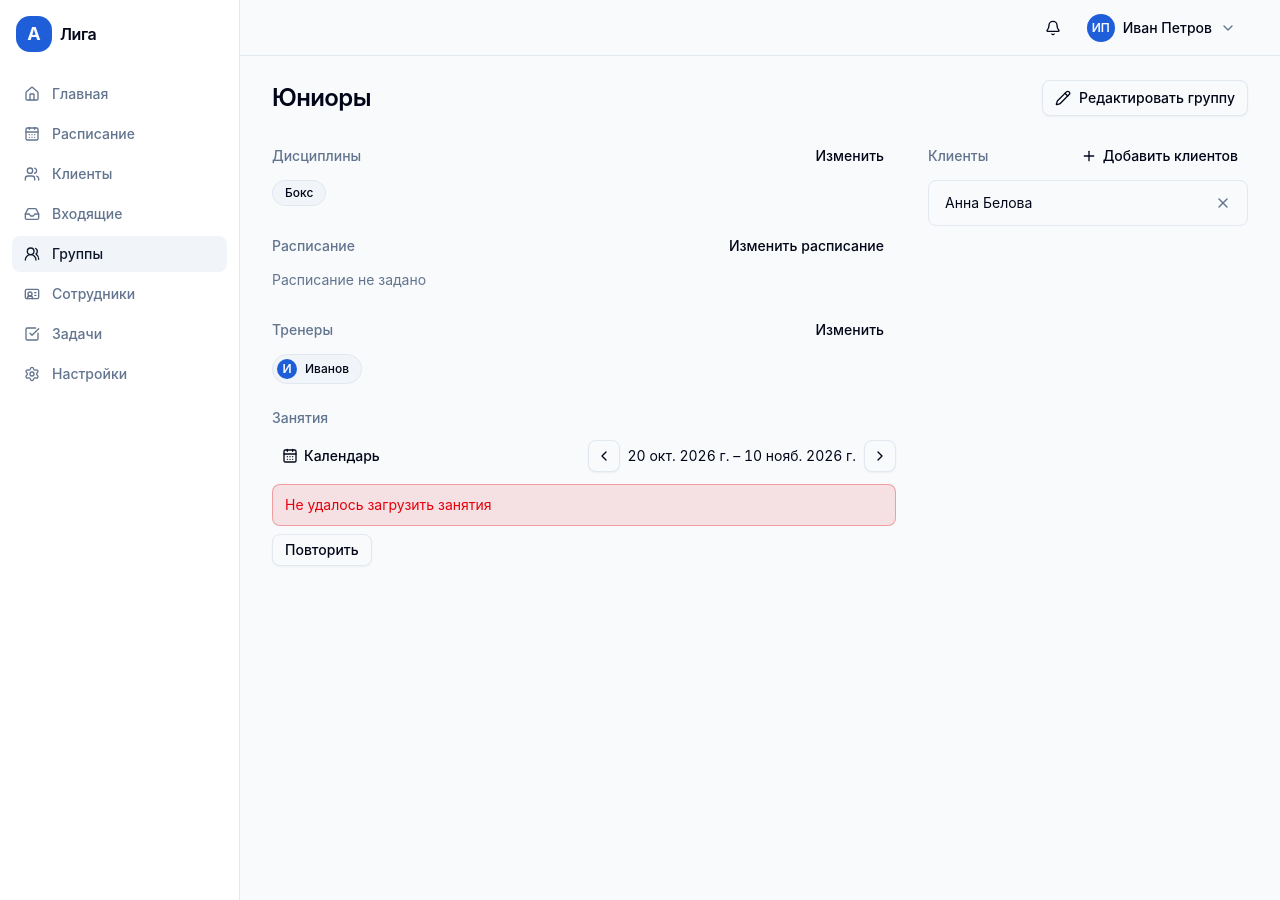
Scenario: дисциплины и тренеры в карточке › заменяет тренеров отмеченными в панели, включая неактивных в списке
This screenshot has width=1280, height=900.
Expected: the list item "Иванов" is shown, [305,361,349,376]
Click the button "Изменить" in the row of "Тренеры" at (850, 330), box [804,314,896,346]
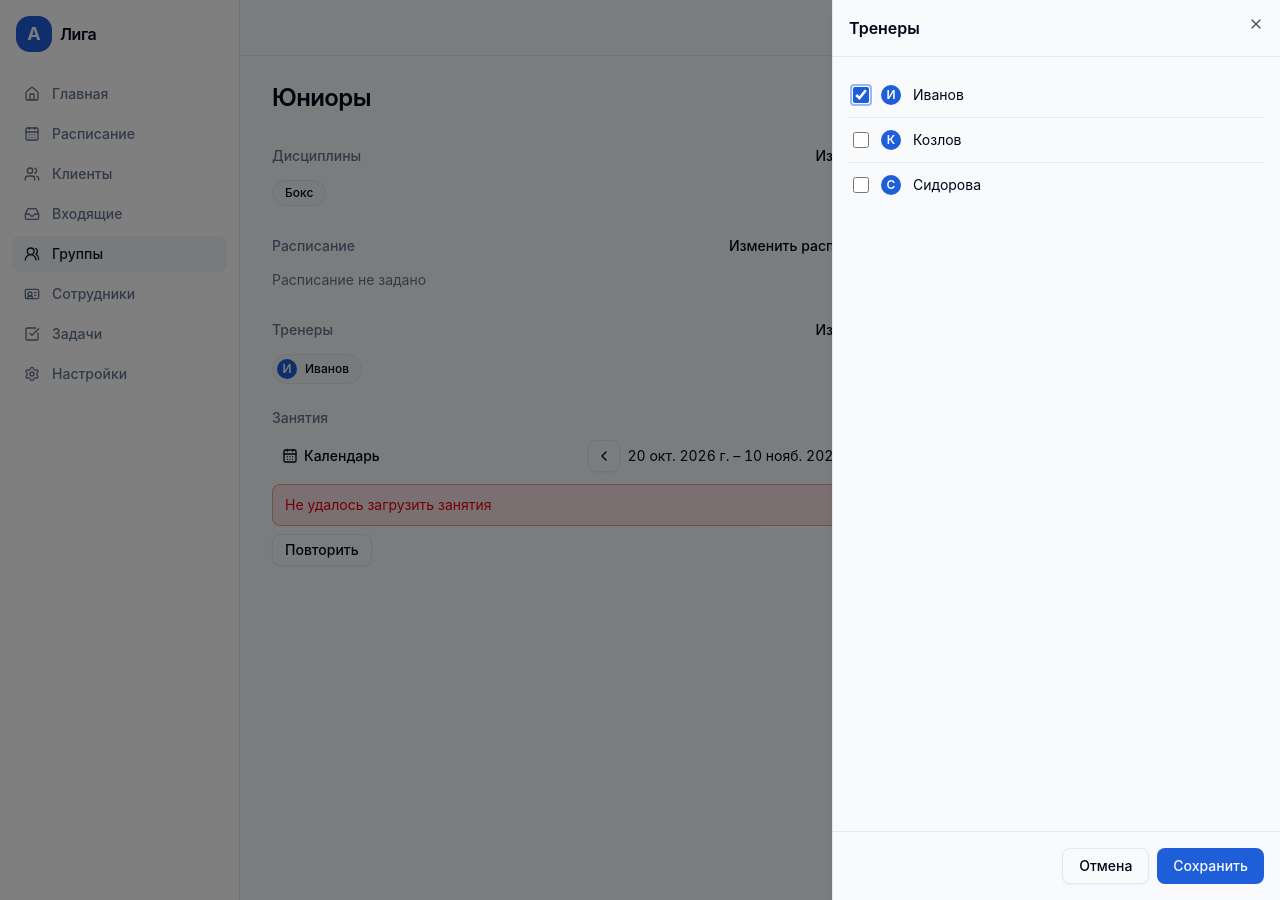
Expected: the checkbox labelled "Иванов" is checked
Expected: the checkbox labelled "Козлов" is not checked, [853,132,869,148]
Click the checkbox labelled "Иванов" at (861, 95), box [853,87,869,103]
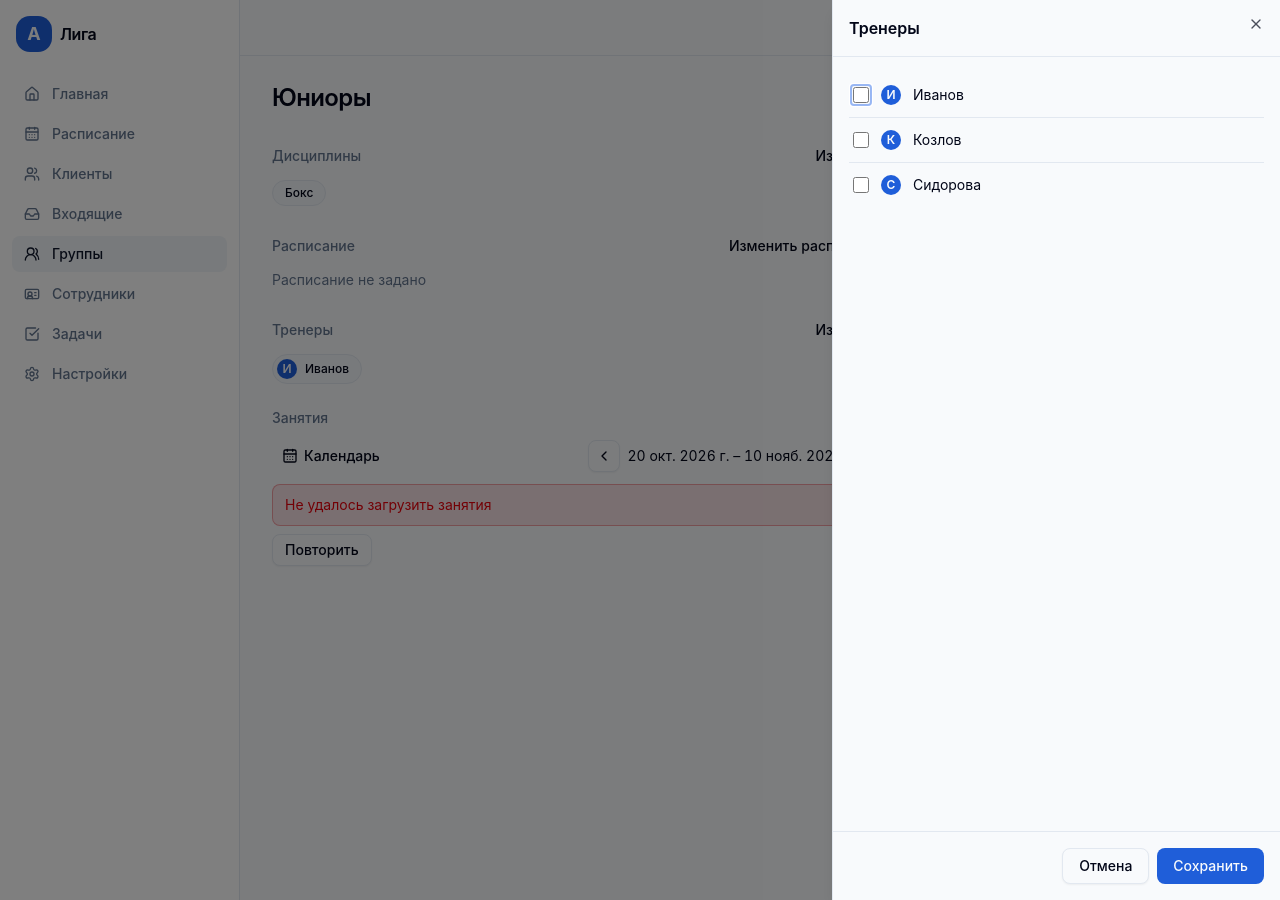
Click the checkbox labelled "Сидорова" at (861, 185), box [853,177,869,193]
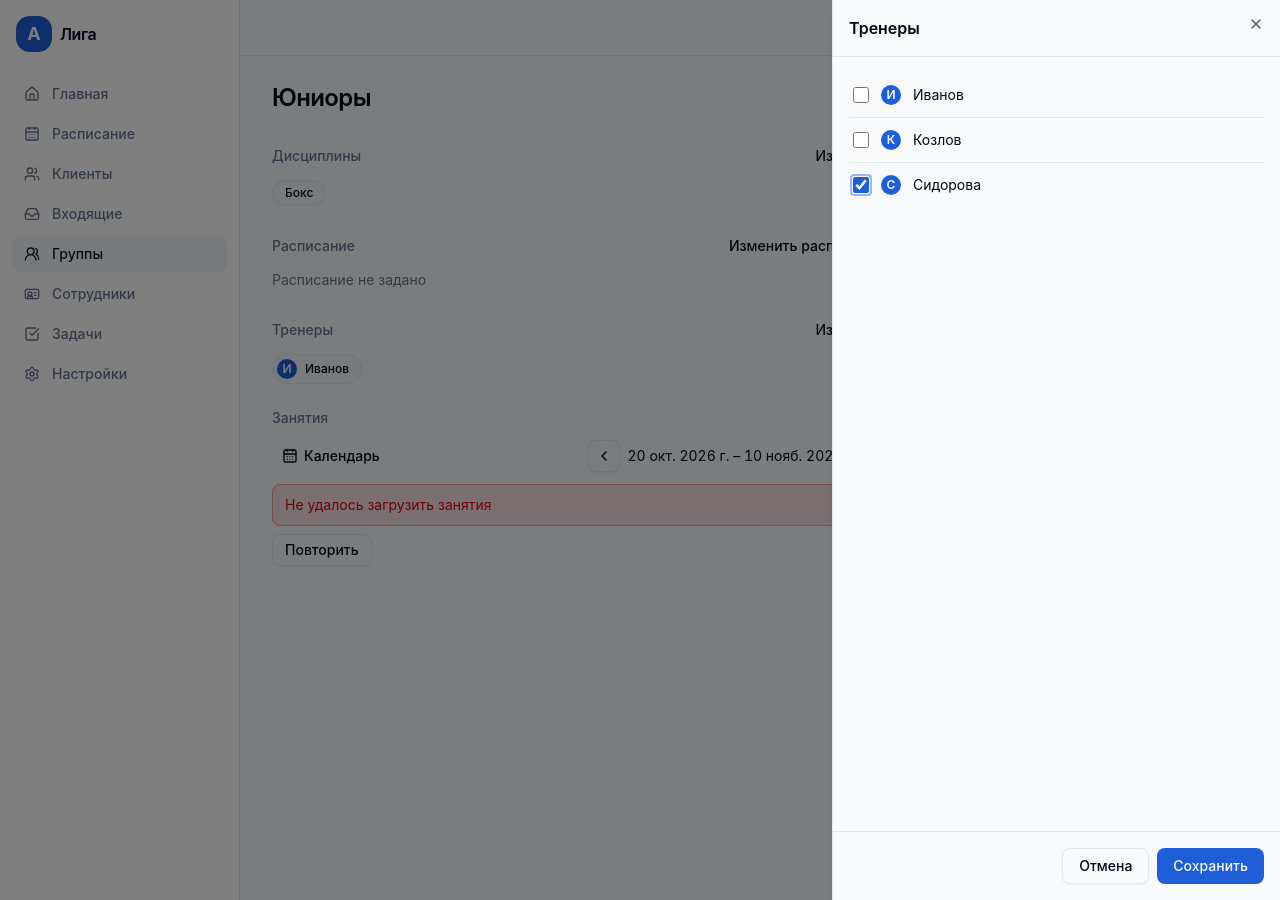
Click the button "Сохранить" at (1211, 866), box [1157,848,1264,884]
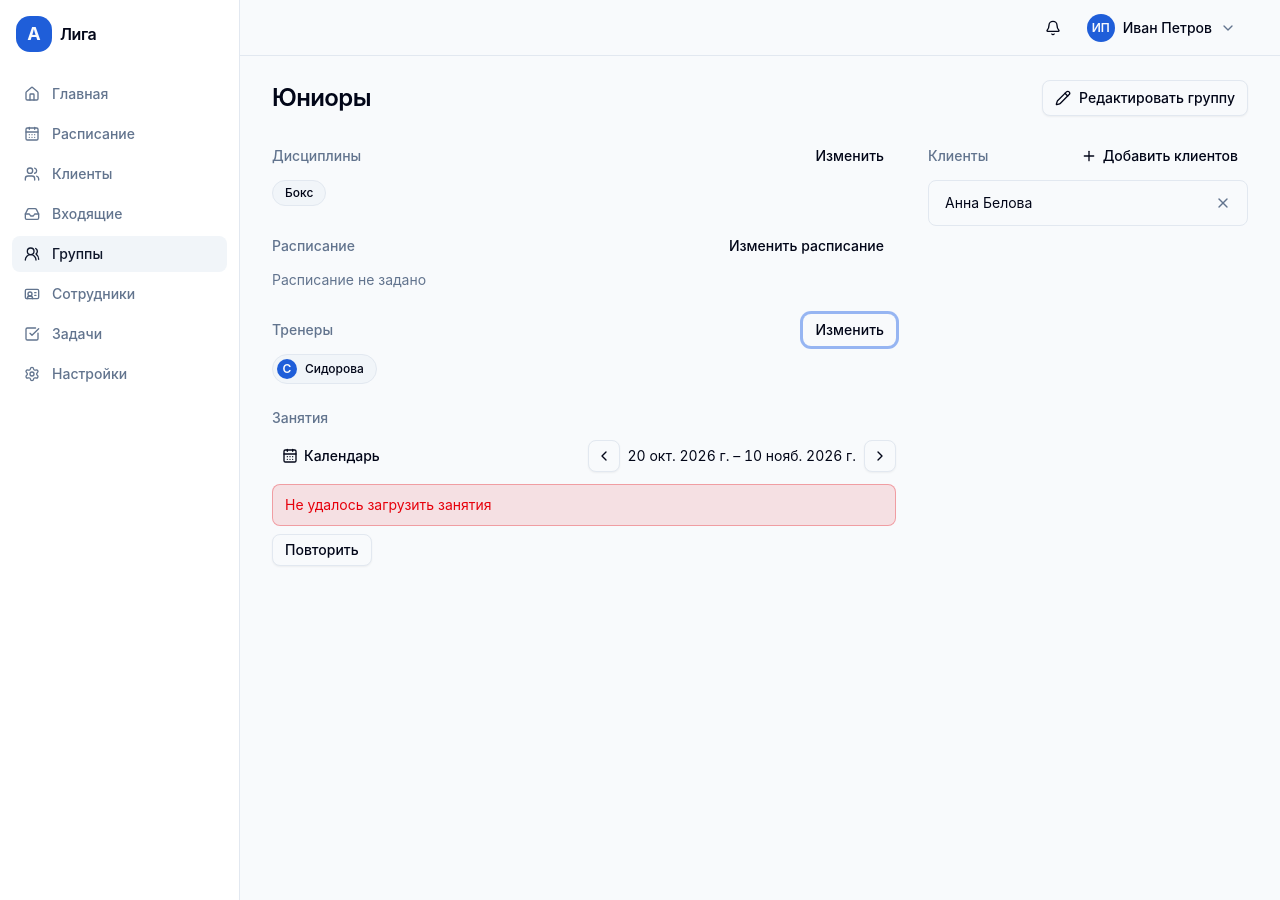
Expected: the dialog is gone
Expected: the list item "Сидорова" is shown, [305,361,364,376]
Expected: the list item "Иванов" is gone
